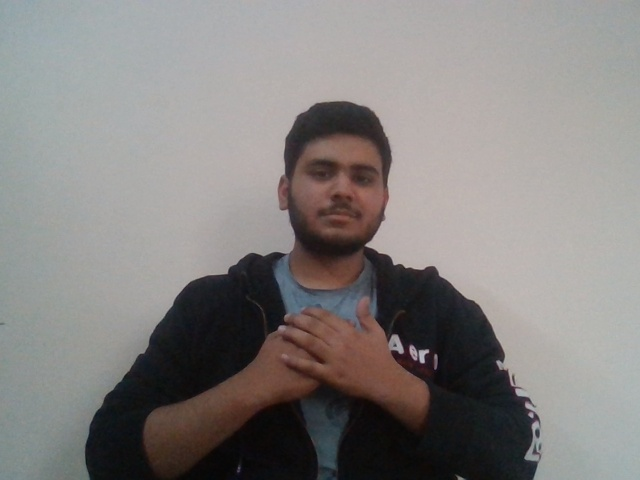Please: (245, 306, 404, 398)
